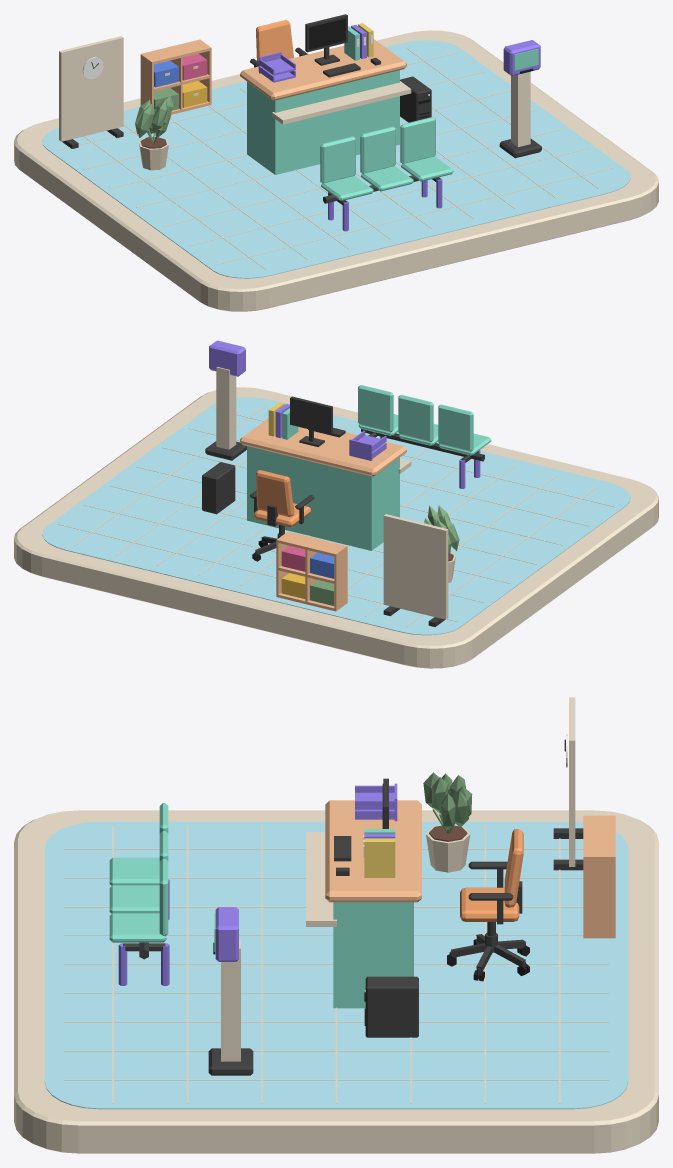
The picture shows the model from 3 angles, top to bottom: view 1: azimuth 30°, elevation 25°; view 2: azimuth 150°, elevation 25°; view 3: azimuth 270°, elevation 25°; orthographic projection. The views are drawn at different scales.
Visible parts, largest first — view 1: COM-02 Floor Surface, COM-01 Rounded Base Direct, Counter body, Panel, Countertop, Pot, Visitor shelf, Frame, Back.001, Back.002, Back, Pedestal (+14 smaller); view 2: COM-02 Floor Surface, COM-01 Rounded Base Direct, Counter body, Panel, Countertop, COM-04_Chair_blender_direct, Pedestal, Tower, Frame, Back, Back.001, Back.002 (+9 smaller); view 3: COM-02 Floor Surface, COM-01 Rounded Base Direct, Counter body, Countertop, COM-04_Chair_blender_direct, Pot, Tower, Cubbies divider.002, Visitor shelf, Pedestal, Seat.002, Seat (+11 smaller).
Boxes of the visible parts, <box> form: COM-02 Floor Surface: <box>42,40,630,278</box>; COM-01 Rounded Base Direct: <box>14,30,658,311</box>; Counter body: <box>247,70,399,174</box>; Panel: <box>59,36,123,141</box>; Countertop: <box>240,39,406,100</box>; Pot: <box>135,95,173,170</box>; Visitor shelf: <box>272,81,411,124</box>; Frame: <box>305,14,347,65</box>; Back.001: <box>360,126,395,173</box>; Back.002: <box>400,117,435,163</box>; Back: <box>320,136,355,183</box>; Pedestal: <box>511,71,530,147</box>; COM-02 Floor Surface: <box>42,397,630,635</box>; COM-01 Rounded Base Direct: <box>14,387,658,668</box>; Counter body: <box>247,446,399,550</box>; Panel: <box>383,514,448,619</box>; Countertop: <box>240,418,406,476</box>; COM-04_Chair_blender_direct: <box>250,470,314,561</box>; Pedestal: <box>216,367,236,449</box>; Tower: <box>202,462,235,514</box>; Frame: <box>290,396,332,446</box>; Back: <box>438,404,473,451</box>; Back.001: <box>398,394,433,441</box>; Back.002: <box>358,385,393,432</box>; COM-02 Floor Surface: <box>44,821,628,1109</box>; COM-01 Rounded Base Direct: <box>14,810,658,1153</box>; Counter body: <box>333,902,413,1008</box>; Countertop: <box>325,800,421,902</box>; COM-04_Chair_blender_direct: <box>447,829,529,981</box>; Pot: <box>423,772,472,872</box>; Tower: <box>365,976,418,1037</box>; Cubbies divider.002: <box>583,857,615,938</box>; Visitor shelf: <box>306,832,336,926</box>; Pedestal: <box>221,939,240,1061</box>; Seat.002: <box>109,913,166,942</box>; Seat: <box>109,857,159,885</box>.
Bounding box in the file's own units: 6 × 1.87 × 5.2.
1 material, 1 textured.
